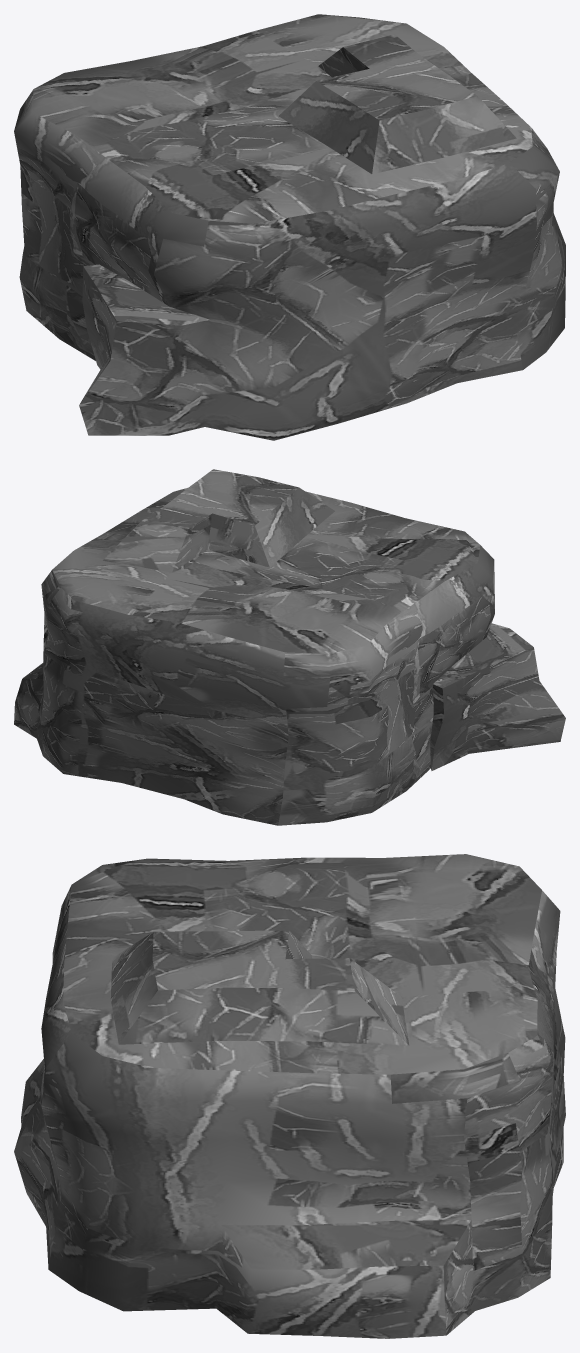
The model's file is rock.fbx.
3 renders of one model, top to bottom at view 1: azimuth 30°, elevation 25°; view 2: azimuth 150°, elevation 25°; view 3: azimuth 270°, elevation 25°, orthographic. The views are drawn at different scales.
Visible parts, largest first — view 1: cube28; view 2: cube28; view 3: cube28.
Part boxes in pixels (box(x1,y1,x2,y2)): cube28: box(14, 14, 565, 440); cube28: box(14, 469, 565, 825); cube28: box(14, 854, 565, 1338).
Bounding box in the file's own units: 51.8 × 22.81 × 40.16.
